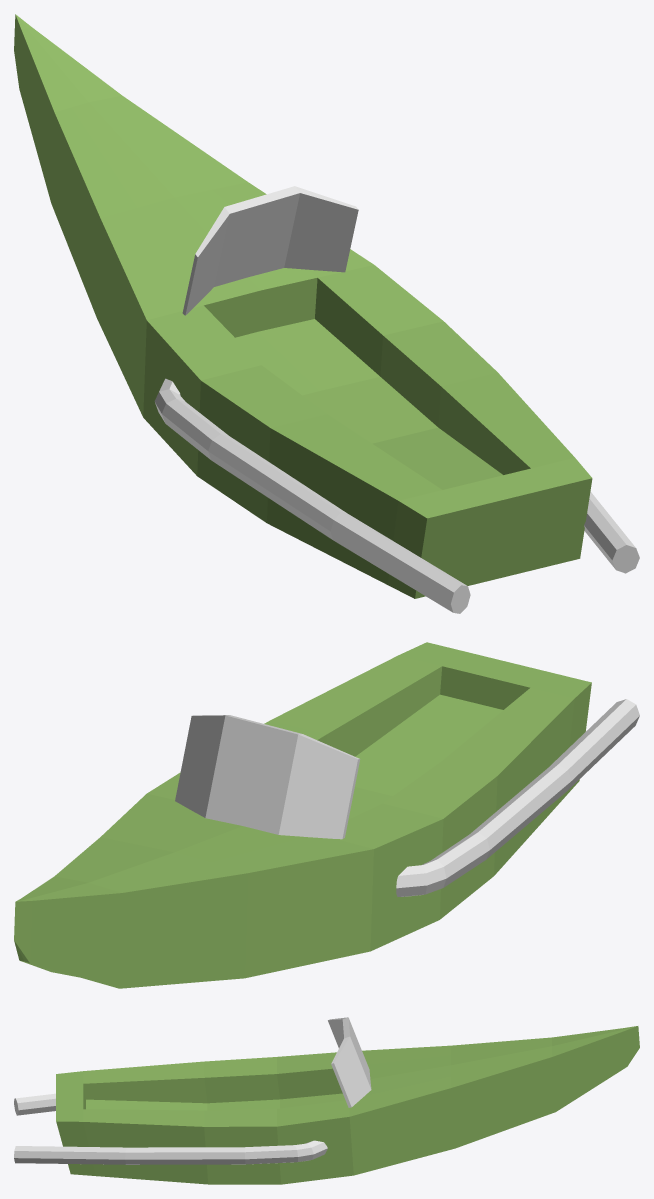
File: player.glb
The picture shows the model from 3 angles, top to bottom: view 1: azimuth 30°, elevation 25°; view 2: azimuth 150°, elevation 25°; view 3: azimuth 270°, elevation 25°; orthographic projection. The views are drawn at different scales.
Parts seen in each view (by area): view 1: Player, Cube, Cylinder.001, Cylinder; view 2: Player, Cube, Cylinder.001; view 3: Player, Cylinder, Cube, Cylinder.001.
Part boxes in pixels (left/top/right/bottom): Player: left=14, top=14, right=592, bottom=598; Cube: left=182, top=186, right=358, bottom=315; Cylinder.001: left=154, top=378, right=470, bottom=613; Cylinder: left=584, top=491, right=639, bottom=573; Player: left=14, top=642, right=591, bottom=988; Cube: left=175, top=715, right=360, bottom=839; Cylinder.001: left=396, top=699, right=639, bottom=896; Player: left=56, top=1026, right=639, bottom=1184; Cylinder: left=14, top=1140, right=327, bottom=1164; Cube: left=328, top=1017, right=371, bottom=1107; Cylinder.001: left=14, top=1093, right=55, bottom=1115.
Bounding box in the file's own units: 1.56 × 1.12 × 5.04.
